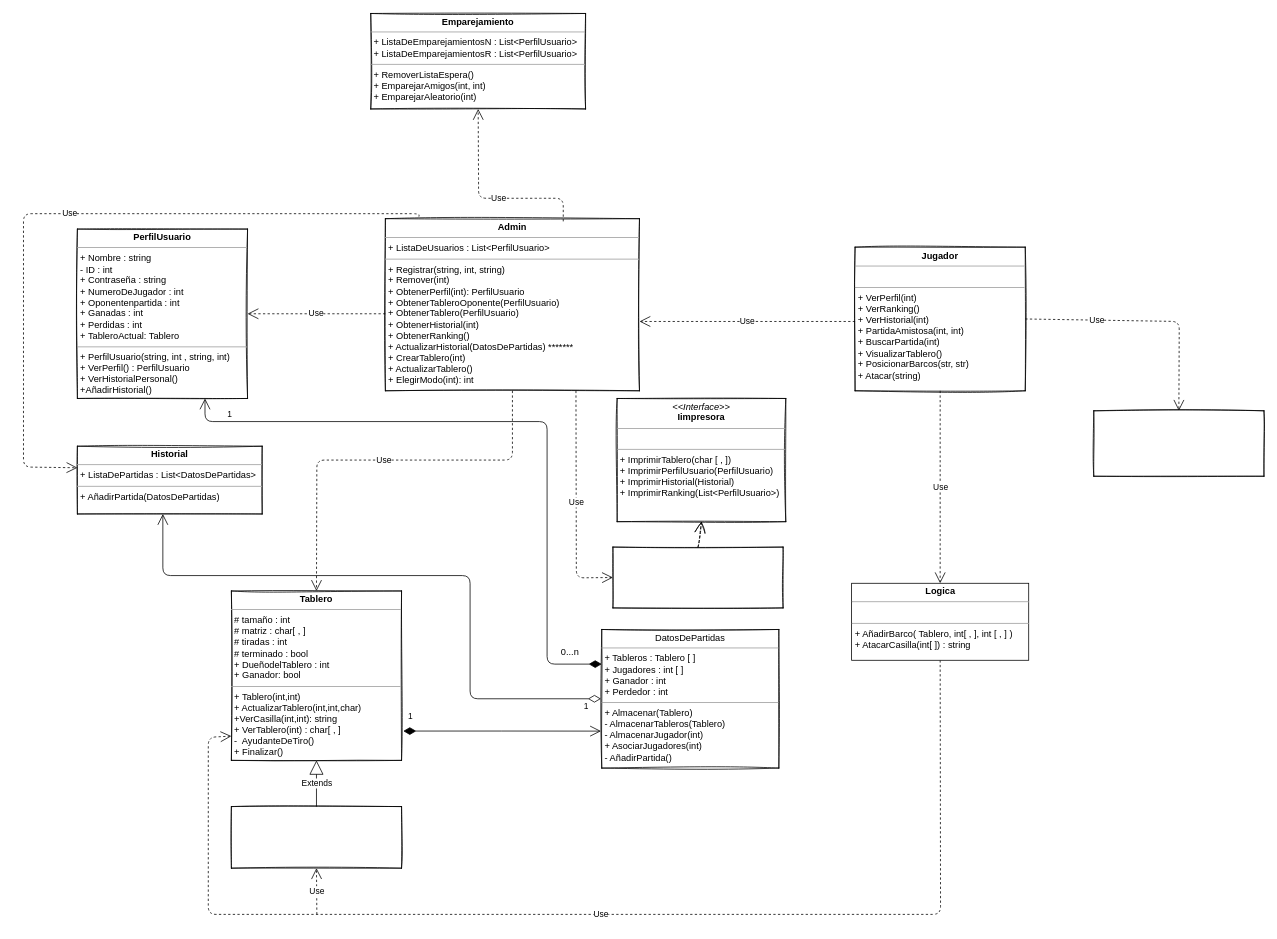
This 1277x939 diagram has some shape labels left out. Each missing label, with the centre of its shape:
ImpresoraConsola **********: (x=697, y=577)
TableroRapido + SegundaTirada : int + TableroRapido(int,int) **********: (x=316, y=837)
TraductorDeCoordenadas + Traducir(str) : int[ ]: (x=1178, y=443)
